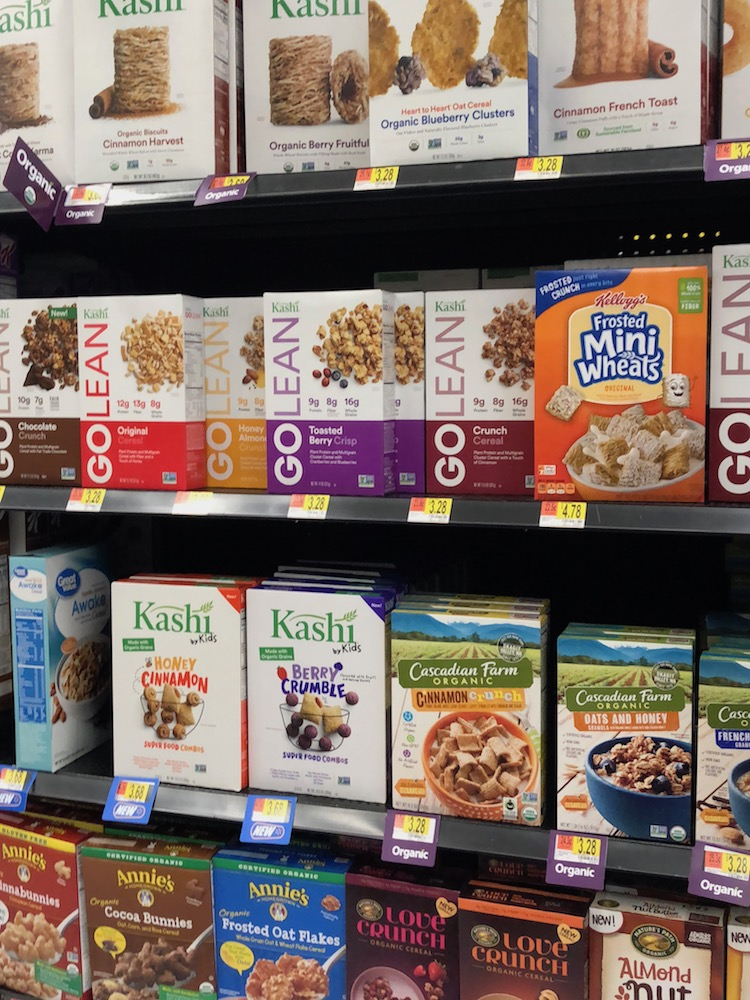Frosted Mini Original -9295869: (533, 274, 707, 497)
